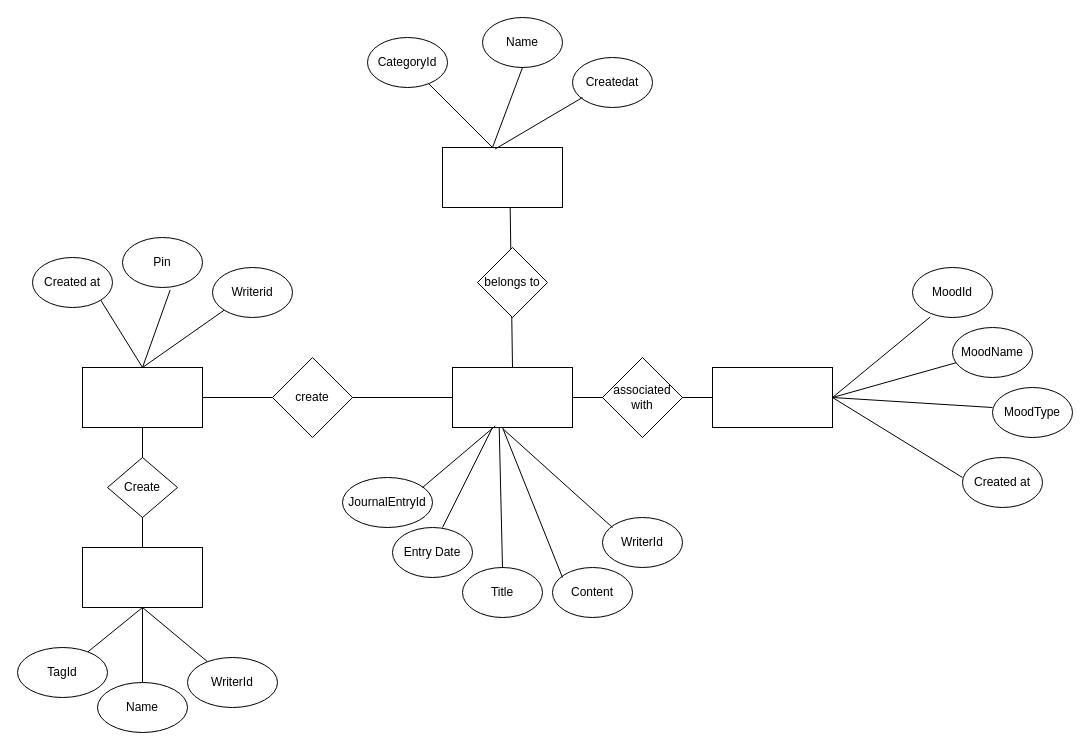
This 1090x751 diagram has some shape labels left out. The centre of each missing label's shape, as x and y in pixels:
"Category" goes at [502,177].
"Custom Tags" goes at [142,577].
"Journal Entry" goes at [512,397].
"Mood" goes at [772,397].
"Writer" goes at [142,397].
